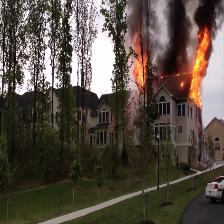fire: (189, 38, 209, 100), (131, 60, 144, 82)
smoke: (165, 0, 191, 72), (198, 1, 218, 29)
